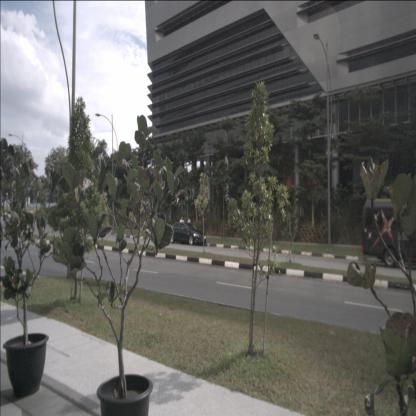human-pedestrian-adult: (180, 216, 185, 237), (187, 216, 191, 237)
vehicle-car: (361, 197, 416, 268), (169, 221, 206, 246)
